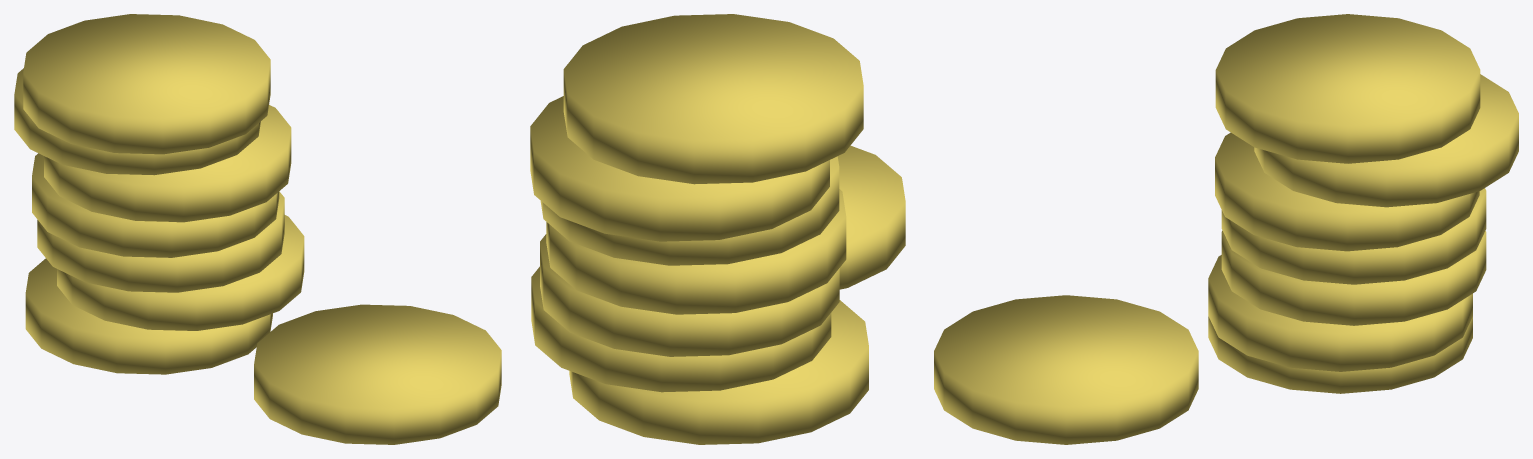
The model's file is coins2.fbx.
3 views of the same model, side by side, from view 1: azimuth 30°, elevation 25°; view 2: azimuth 150°, elevation 25°; view 3: azimuth 270°, elevation 25° (orthographic). The views are drawn at different scales.
Parts seen in each view (by area): view 1: Coins2; view 2: Coins2; view 3: Coins2.
Boxes of the visible parts, bbox=[...] form: Coins2: bbox=[14, 14, 501, 444]; Coins2: bbox=[530, 14, 905, 444]; Coins2: bbox=[934, 14, 1518, 444].
Size of the model in its own units: 11.18 by 16.95 by 8.59.
